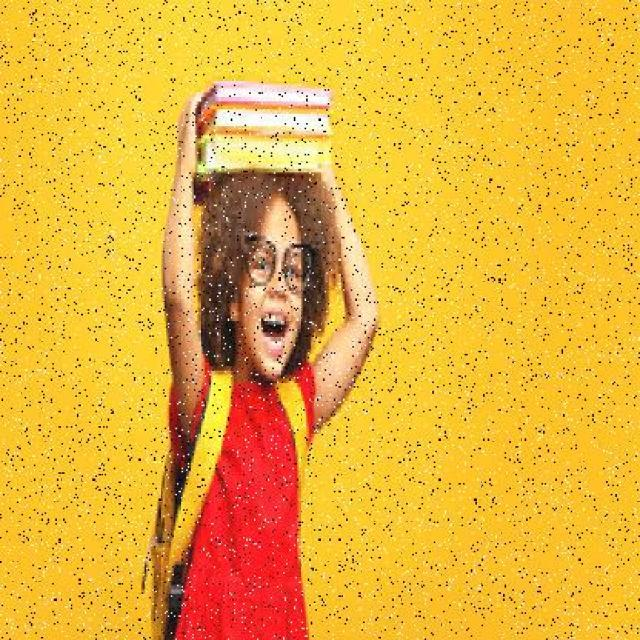glasses: (226, 231, 320, 304)
